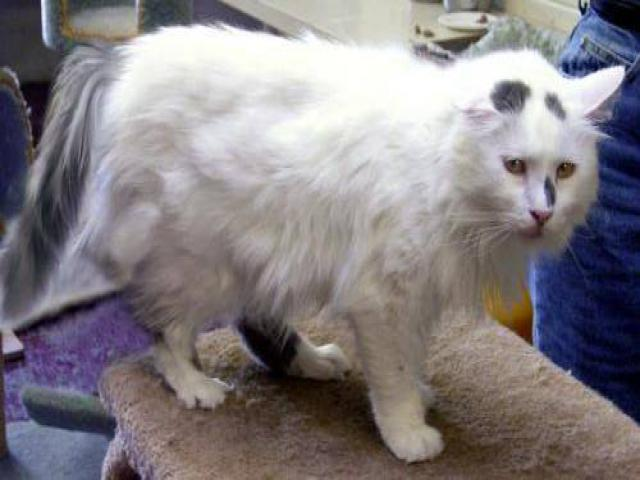cat: (21, 19, 611, 453)
